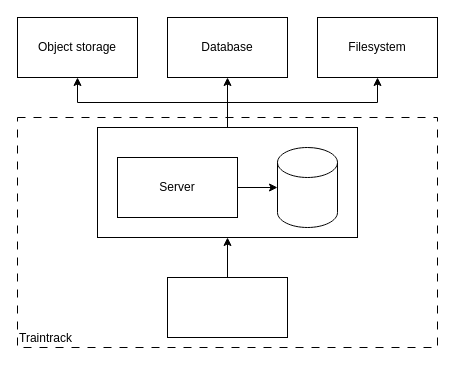
Image size: 455x365. Some labels were removed from this diagram. The shapes that lost their labels are listed below. From the top down, each one's box as (x1, y1, x2, y2) in pixels, then its label:
(96, 126, 358, 238): Backplane
(276, 146, 338, 228): Metadata
(166, 276, 288, 338): Language SDKs
